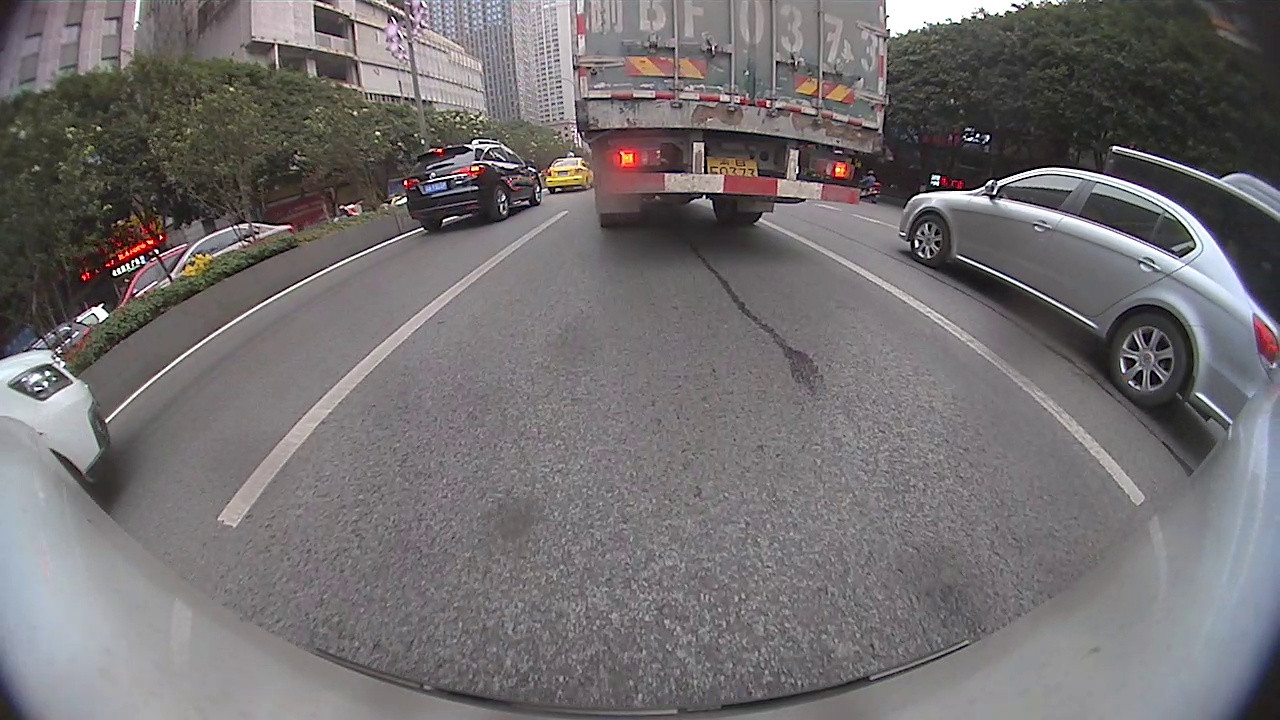bus: (1100, 145, 1279, 322)
car: (899, 166, 1276, 425), (3, 351, 110, 493), (408, 139, 541, 230), (546, 153, 594, 190)
front: (907, 212, 952, 268), (530, 180, 544, 208)
rear: (1105, 310, 1194, 410), (486, 184, 511, 222)
truck: (569, 2, 894, 229)
